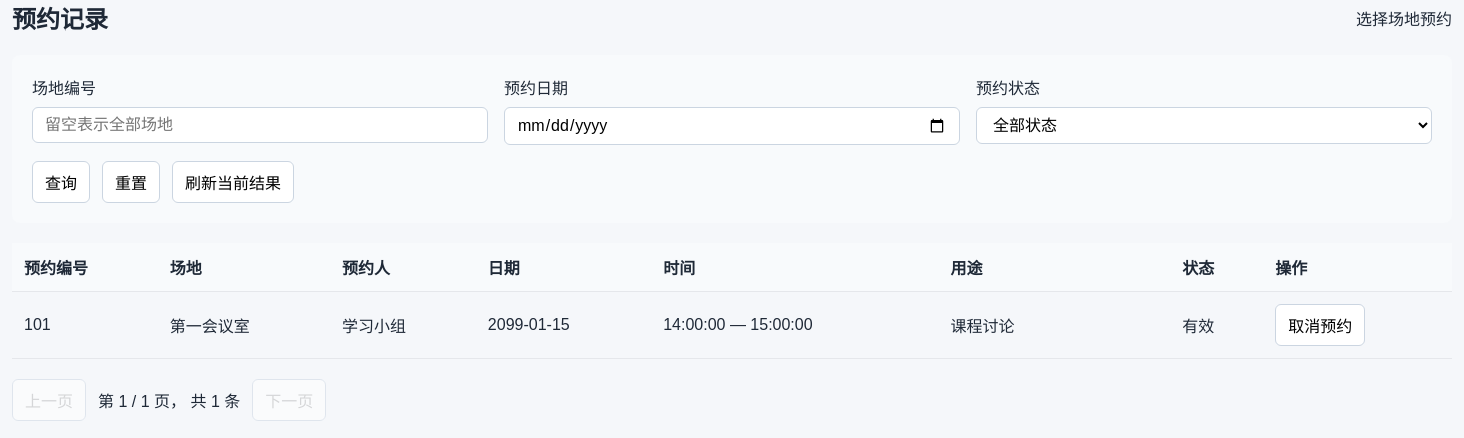
Test case: ReservationListView › goes back without cancelling
What coordinates should you click on to do the following:
click the button "取消预约"
I would click on:
 (1320, 325)
Its box is [1275,304,1365,346].
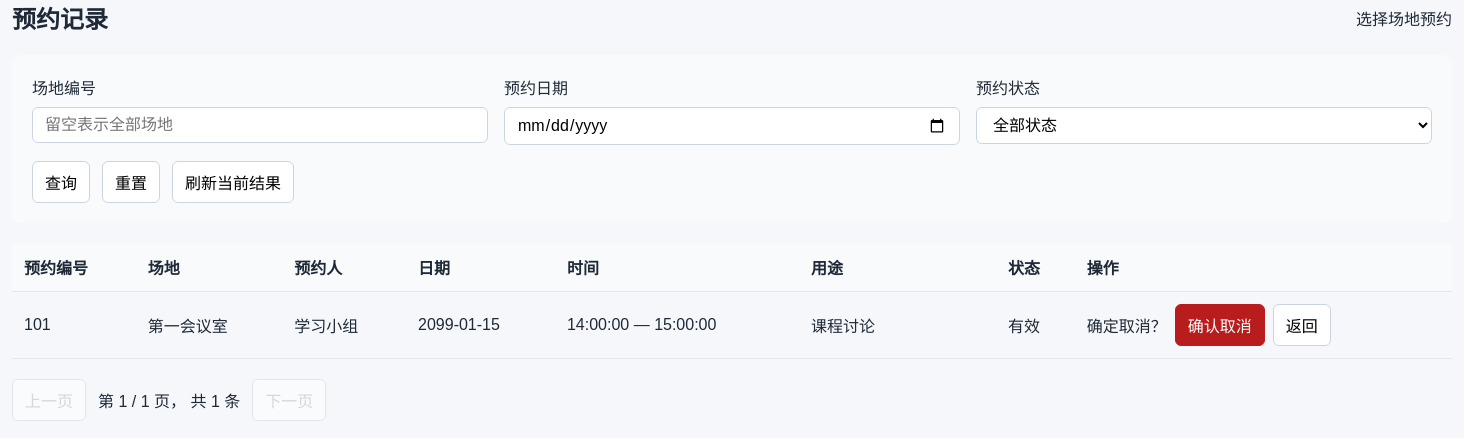
What coordinates should you click on to do the following:
click the button "返回"
I would click on:
 (1302, 325)
Its box is [1273,304,1331,346].
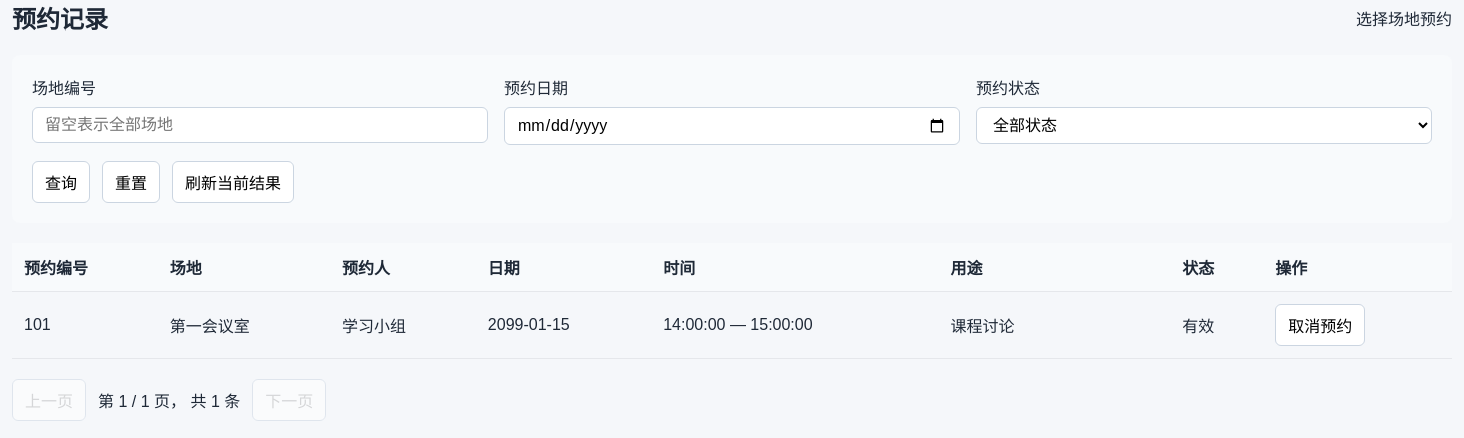
Result: the text "确定取消？" is gone
